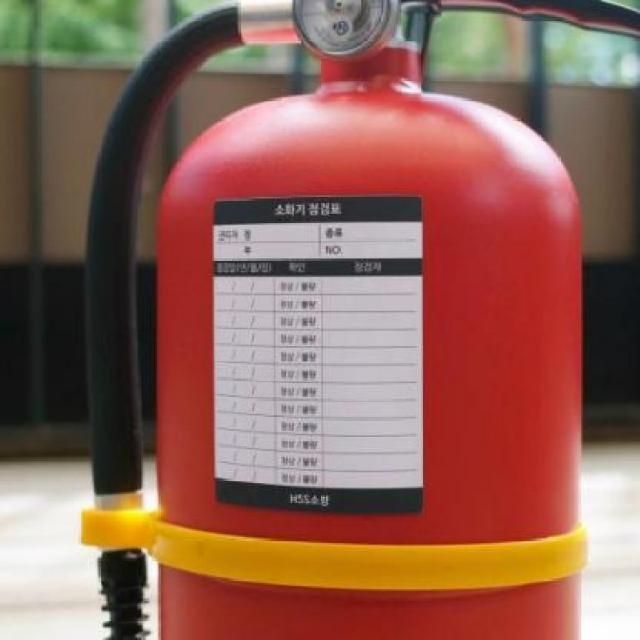fire extinguisher: (78, 0, 640, 640)
